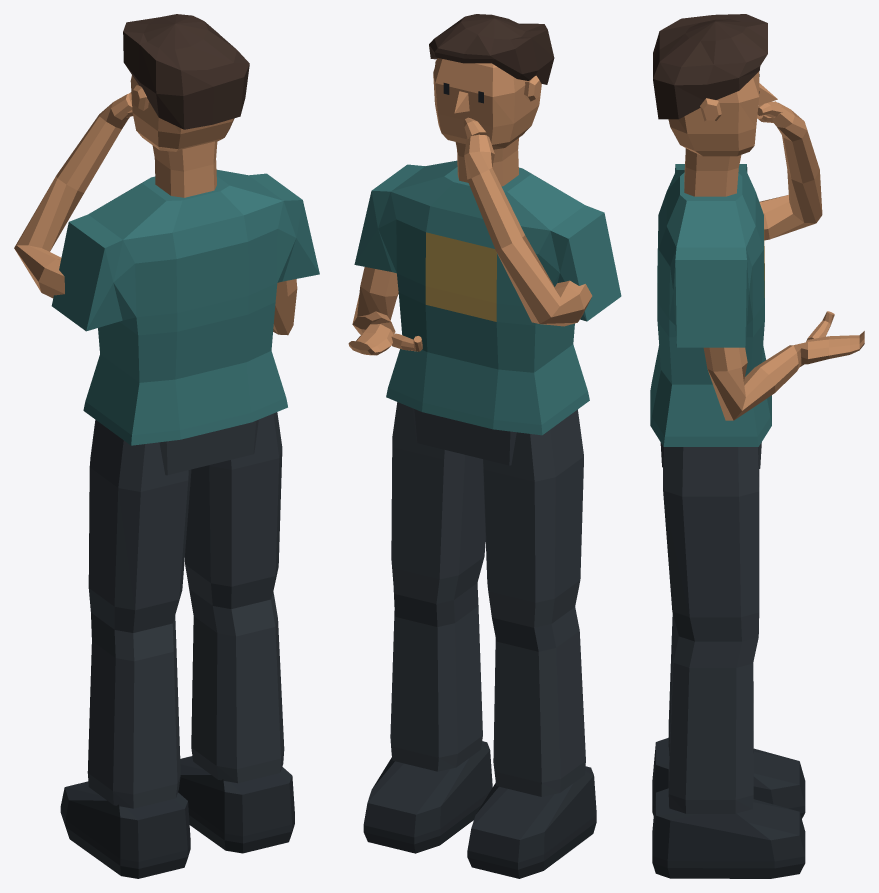
The model's file is lwf_attendee_male_eating_v1.glb.
3 renders of one model, left to right at view 1: azimuth 30°, elevation 25°; view 2: azimuth 150°, elevation 25°; view 3: azimuth 270°, elevation 25°, orthographic.
Parts seen in each view (by area): view 1: Attendee_male_eating; view 2: Attendee_male_eating; view 3: Attendee_male_eating.
Boxes of the visible parts, x1=… form: Attendee_male_eating: x1=14, y1=14, x2=319, y2=878; Attendee_male_eating: x1=348, y1=14, x2=621, y2=878; Attendee_male_eating: x1=650, y1=14, x2=864, y2=878.
Bounding box in the file's own units: 0.544 × 1.75 × 0.419.
Materials: 1 (1 with a texture image).
